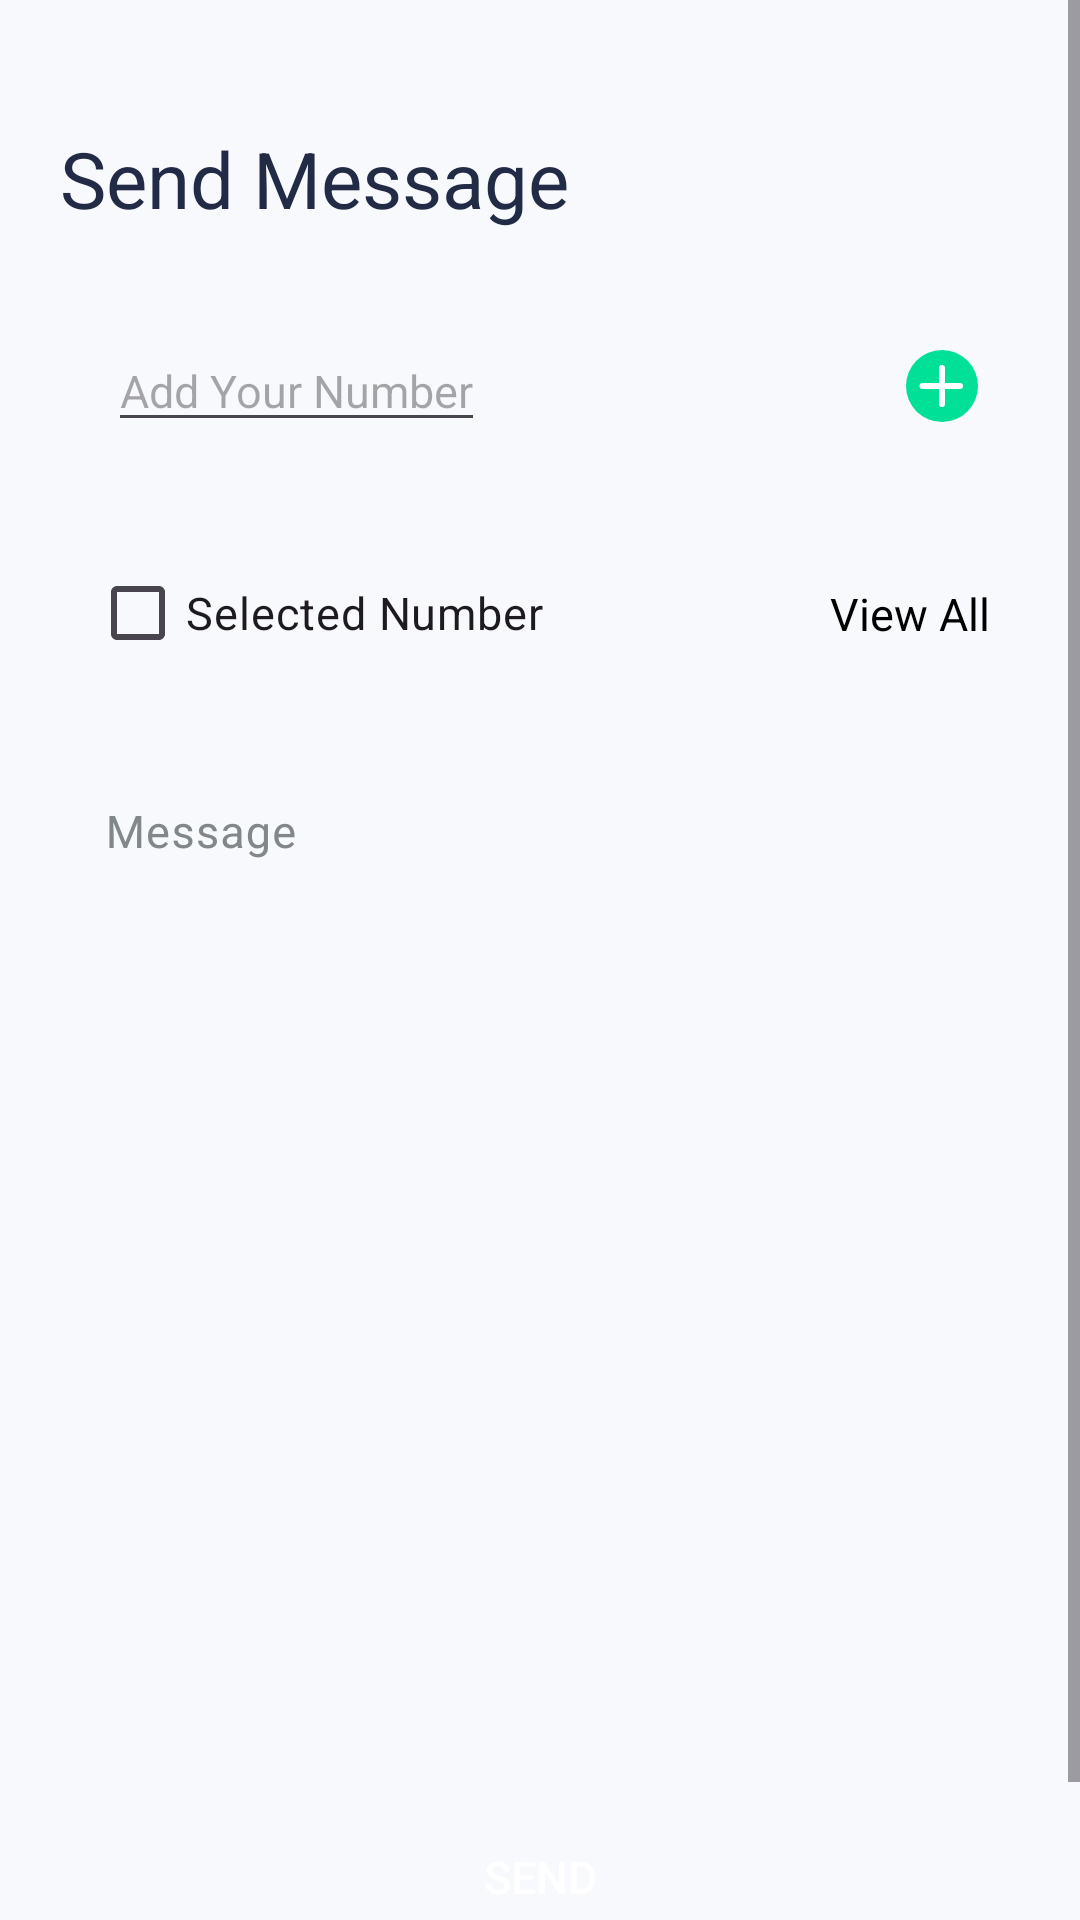

Point at icon controls on the screen. Image size 1080px x 1920px, points as (x,y).
add: (942,386)
